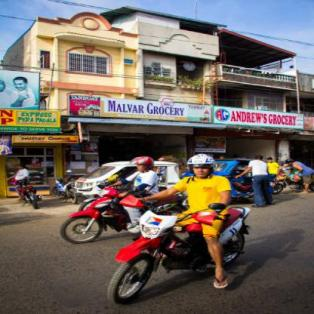Motocicleta: (97, 210, 255, 306)
